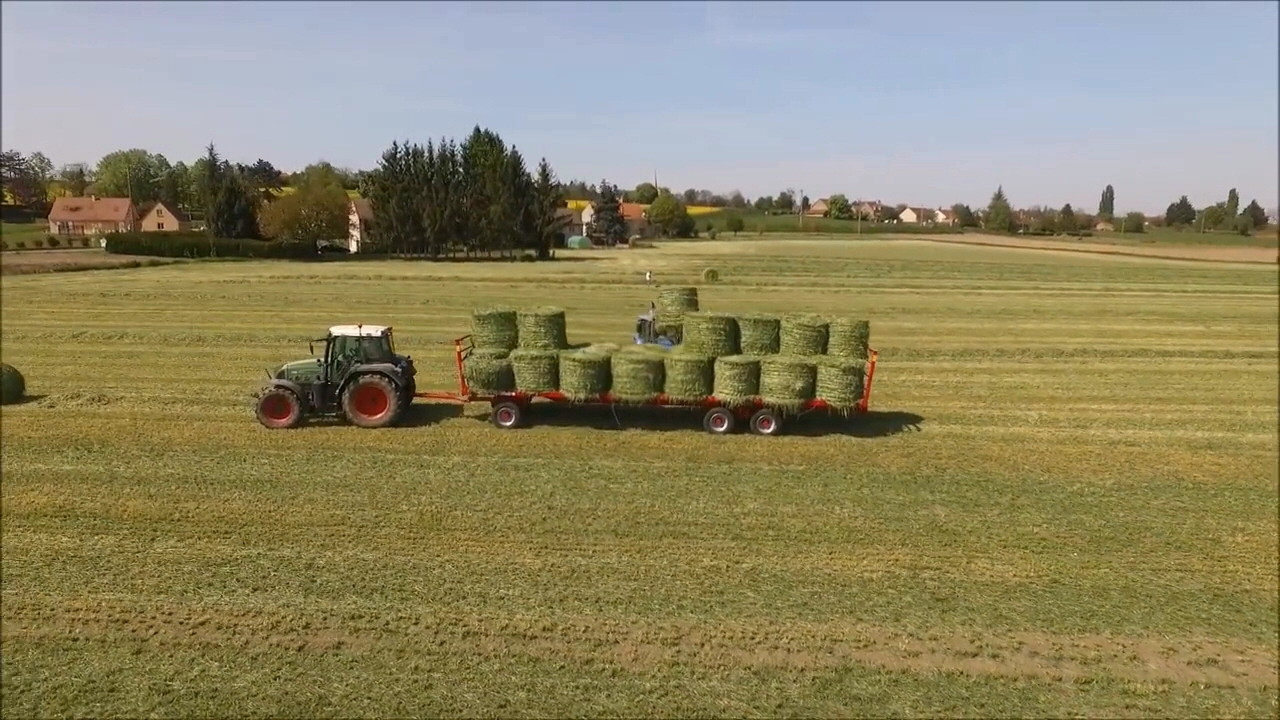traktor: (259, 325, 415, 427)
